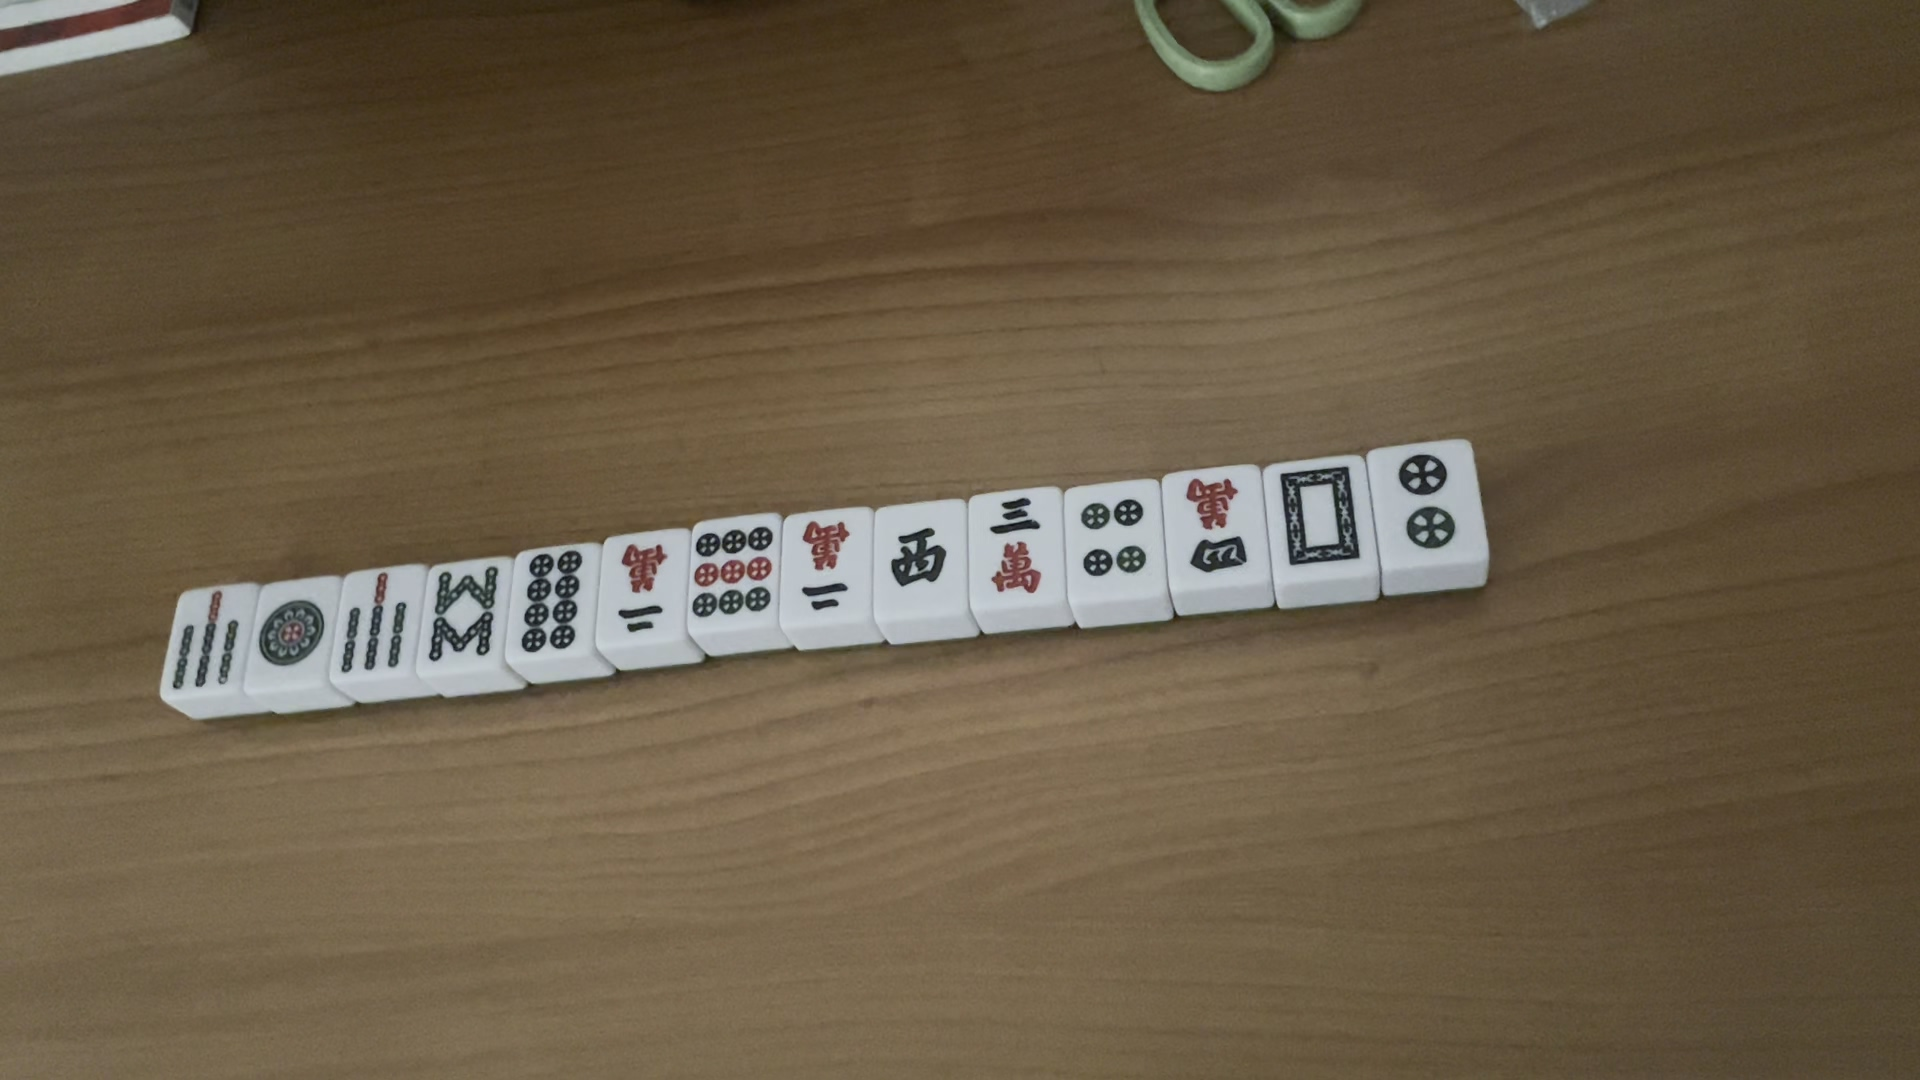b-7: (334, 568, 413, 682), (171, 588, 237, 694)
b-8: (426, 560, 498, 666)
c-2: (609, 538, 673, 640), (794, 521, 855, 617)
c-3: (982, 489, 1044, 597)
c-4: (1178, 476, 1254, 579)
d-1: (252, 597, 328, 669)
d-2: (1393, 448, 1461, 556)
d-4: (1076, 495, 1149, 582)
d-8: (520, 546, 587, 659)
d-9: (690, 525, 775, 626)
hornors-west: (884, 520, 948, 595)
hornors-white: (1278, 462, 1367, 566)
